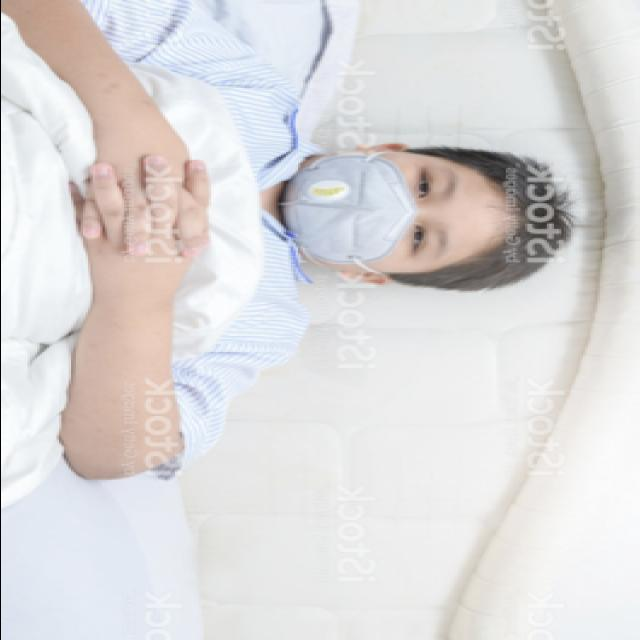mask: (277, 152, 473, 274)
